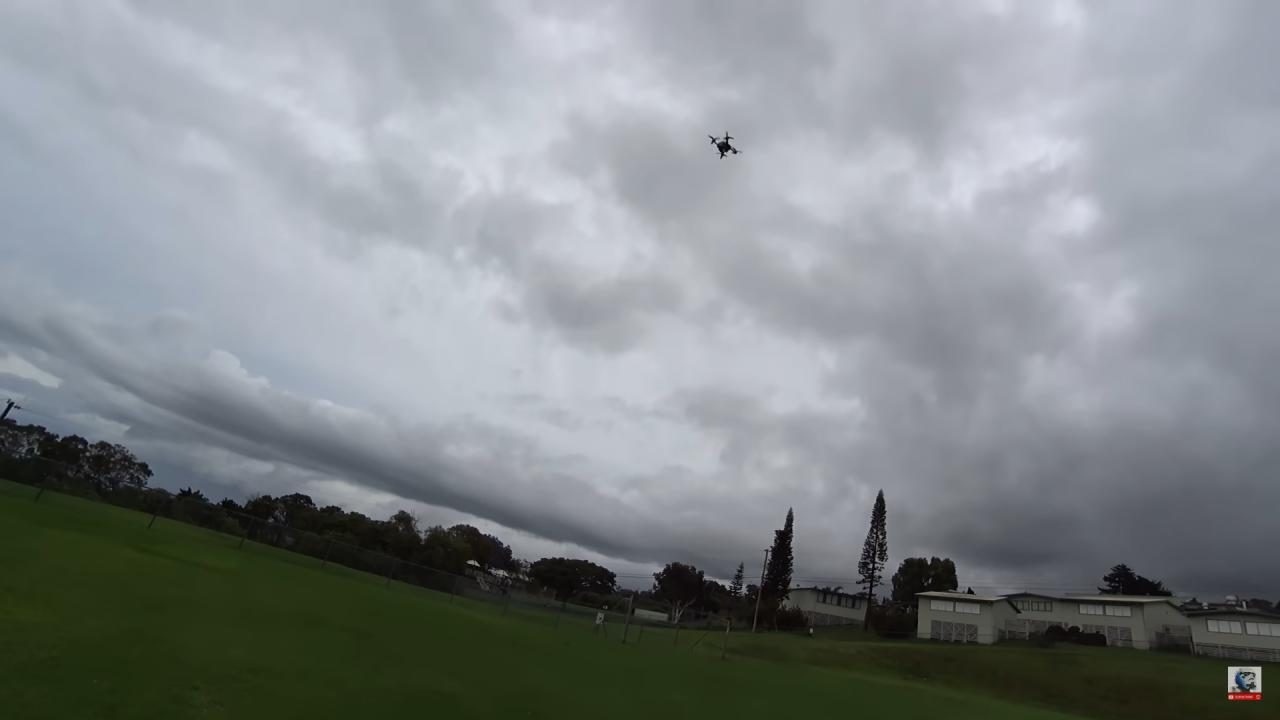Drone: (690, 115, 755, 174)
